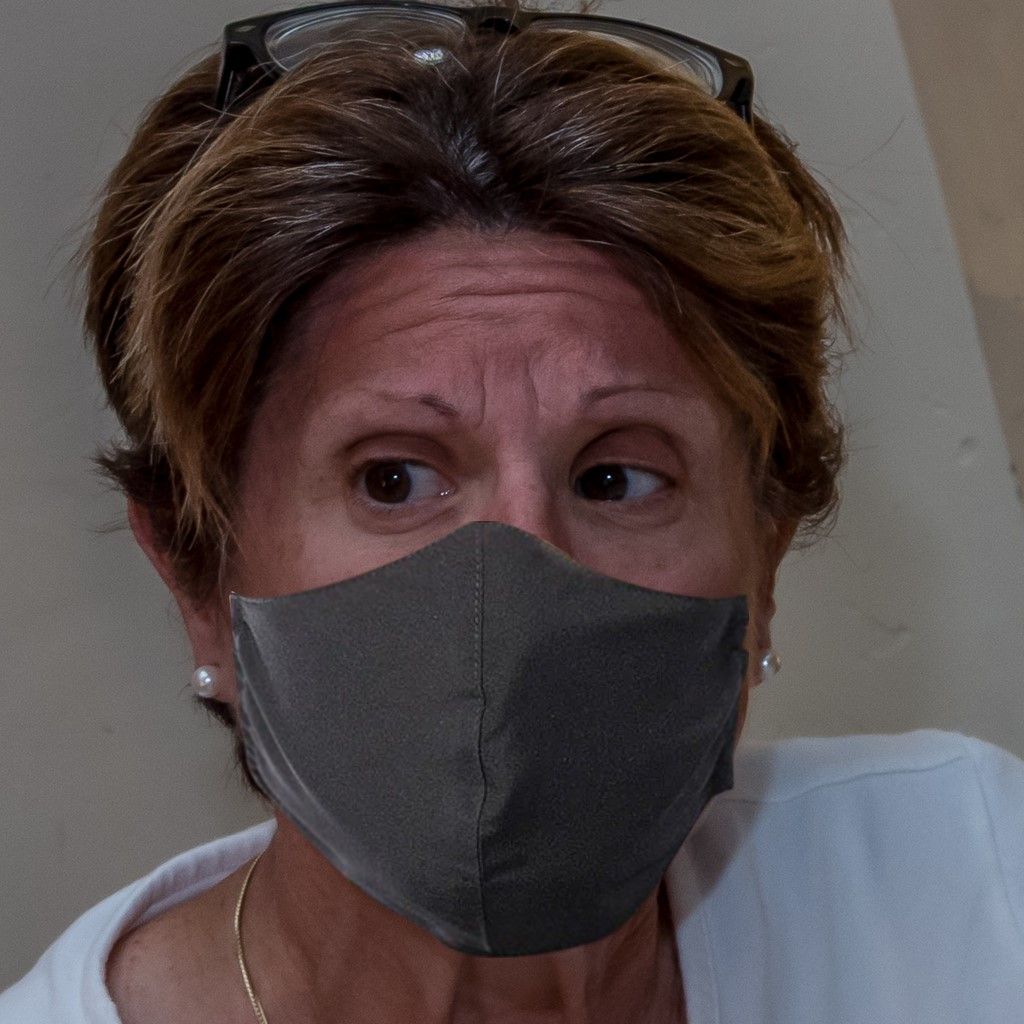con_mascara: (205, 204, 781, 955)
